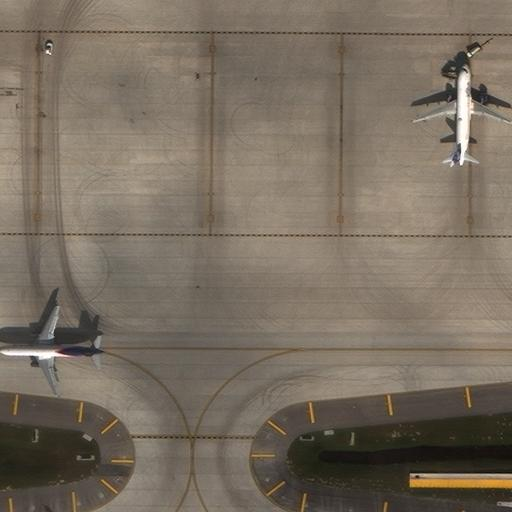Medium Civil Transport: (414, 63, 511, 167), (0, 305, 104, 396)
